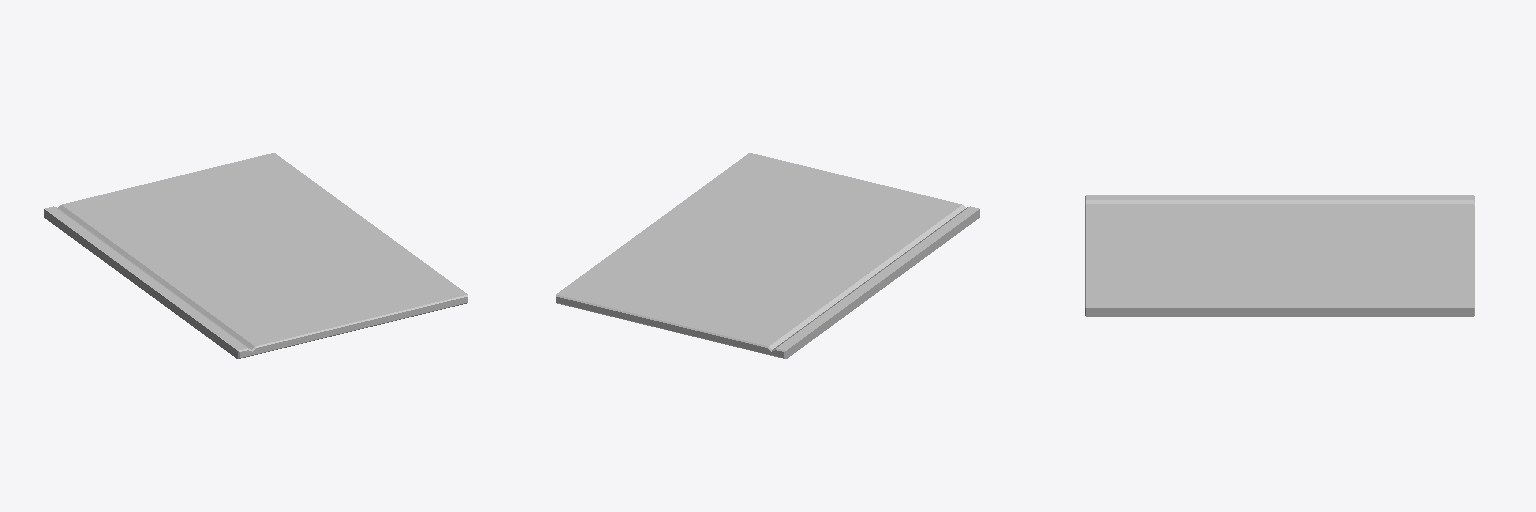
Rendered from Plataforma2.obj.
3 views of the same model, side by side, from view 1: azimuth 30°, elevation 25°; view 2: azimuth 150°, elevation 25°; view 3: azimuth 270°, elevation 25° (orthographic).
Visible parts, largest first — view 1: hypercasual_prop018; view 2: hypercasual_prop018; view 3: hypercasual_prop018.
Part boxes in pixels (x1,y1,x2,y2): hypercasual_prop018: (44, 153, 467, 358); hypercasual_prop018: (556, 153, 979, 358); hypercasual_prop018: (1085, 195, 1474, 316).
Bounding box in the file's own units: 6.09 × 0.2188 × 8.93.